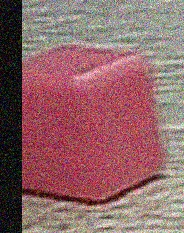red_cube: (21, 36, 173, 216)
